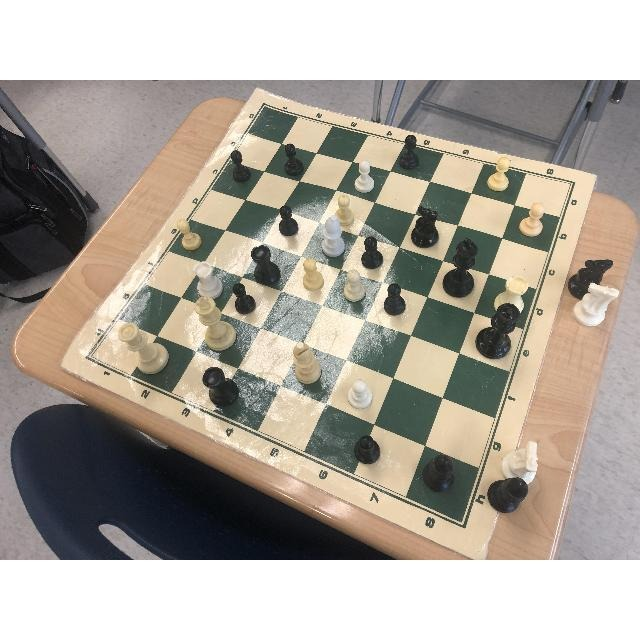black-bishop: (423, 455, 454, 491)
black-king: (442, 238, 478, 297)
black-knight: (411, 207, 438, 247)
black-pawn: (354, 435, 379, 464), (232, 284, 255, 314), (384, 284, 406, 315), (361, 237, 382, 269), (231, 150, 251, 182), (400, 136, 419, 168), (285, 144, 303, 175), (279, 207, 297, 235)
black-queen: (476, 303, 520, 359)
black-rook: (203, 367, 239, 407), (251, 245, 279, 284)
white-bishop: (293, 343, 321, 383), (321, 215, 344, 257)
white-king: (195, 297, 237, 351)
white-pawn: (520, 204, 544, 236), (177, 219, 201, 250), (344, 268, 366, 301), (348, 379, 372, 409), (302, 258, 324, 289), (488, 157, 508, 191), (354, 161, 374, 193), (336, 194, 354, 225)
white-queen: (119, 324, 169, 374)
white-rook: (494, 276, 528, 316), (194, 262, 223, 298)
